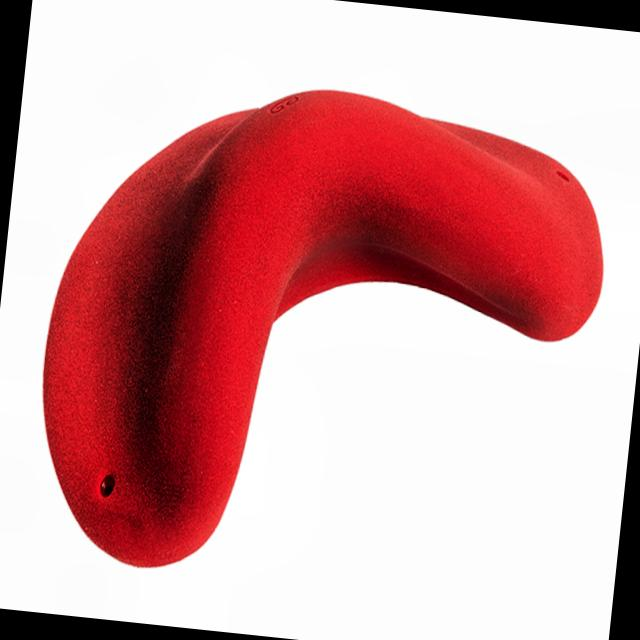Hold: (32, 84, 614, 587)
